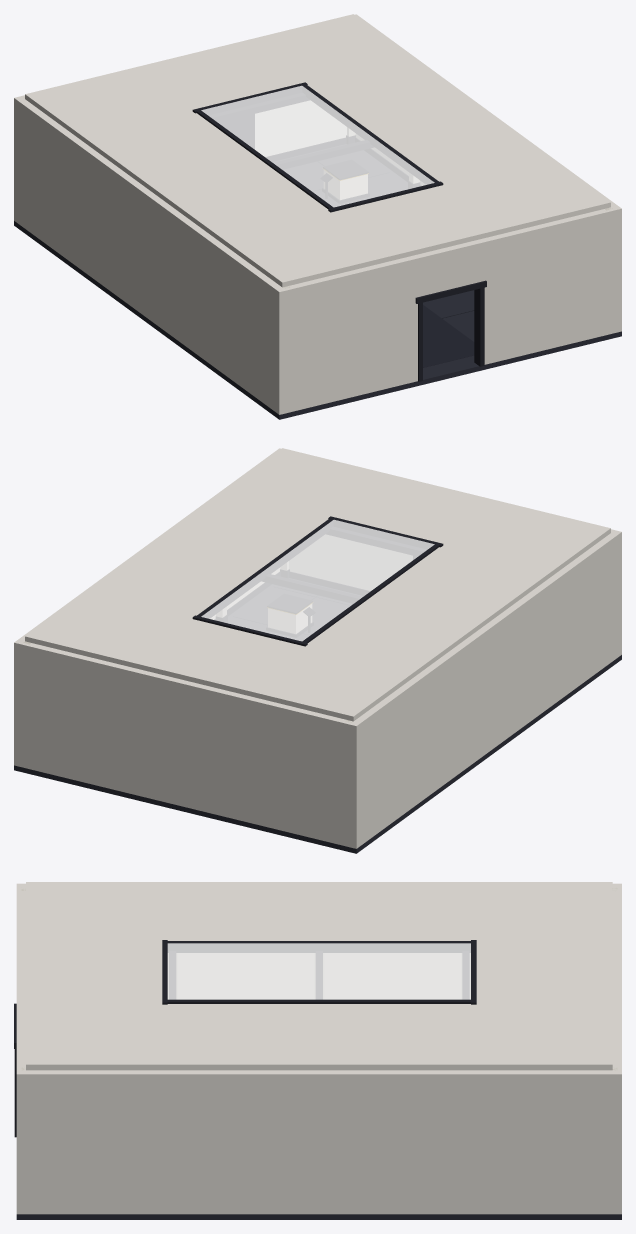
Rendered from sala_museo_.glb.
3 views of the same model, one above another, from view 1: azimuth 30°, elevation 25°; view 2: azimuth 150°, elevation 25°; view 3: azimuth 270°, elevation 25° (orthographic). The views are drawn at different scales.
Visible parts, largest first — view 1: MuroOeste, TechoLateralOeste, TechoLateralEste, MuroSurIzquierdo, MuroSurDerecho, CristalTragaluz, LosaPisoPrincipal, TechoCabeceraSur, TechoCabeceraNorte, MuroFondoNorte, DintelEntradaSur, CorredorCentral (+10 smaller); view 2: MuroFondoNorte, MuroOeste, TechoLateralOeste, TechoLateralEste, CristalTragaluz, TechoCabeceraNorte, TechoCabeceraSur, LosaPisoPrincipal, MuroSurDerecho, MarcoTragaluzEste, MarcoTragaluzSur, MarcoTragaluzOeste (+5 smaller); view 3: MuroEste, TechoLateralEste, TechoLateralOeste, CristalTragaluz, MuroOeste, TechoCabeceraNorte, TechoCabeceraSur, LosaPisoPrincipal, MarcoTragaluzOeste, MuroFondoNorte, MuroSurDerecho, MarcoTragaluzEste (+1 smaller).
Boxes of the visible parts, x1,y1,x2,y2 form: MuroOeste: (18,99,281,411); TechoLateralOeste: (25,67,393,287); TechoLateralEste: (242,14,610,234); MuroSurIzquierdo: (275,255,417,414); MuroSurDerecho: (480,205,621,364); CristalTragaluz: (201,85,434,207); LosaPisoPrincipal: (14,144,621,419); TechoCabeceraSur: (334,186,499,260); TechoCabeceraNorte: (137,41,299,109); MuroFondoNorte: (14,14,359,223); DintelEntradaSur: (414,239,483,296); CorredorCentral: (423,305,474,367); MuroFondoNorte: (14,639,360,848); MuroOeste: (354,533,617,845); TechoLateralOeste: (242,501,610,721); TechoLateralEste: (25,448,393,668); CristalTragaluz: (201,519,434,641); TechoCabeceraNorte: (136,620,301,694); TechoCabeceraSur: (336,475,498,543); LosaPisoPrincipal: (14,578,621,853); MuroSurDerecho: (276,448,412,590); MarcoTragaluzEste: (196,518,334,618); MarcoTragaluzSur: (328,516,443,549); MarcoTragaluzOeste: (302,544,439,642); MuroEste: (26,1070,612,1214); TechoLateralEste: (26,1003,612,1070); TechoLateralOeste: (26,882,612,943); CristalTragaluz: (167,943,470,999); MuroOeste: (178,953,460,999); TechoCabeceraNorte: (476,944,612,1002); TechoCabeceraSur: (26,944,162,1002); LosaPisoPrincipal: (16,1214,621,1219); MarcoTragaluzOeste: (167,941,470,952); MuroFondoNorte: (612,883,621,1214); MuroSurDerecho: (16,997,25,1214); MarcoTragaluzEste: (167,999,470,1003).
Size of the model in its own units: 14.6 by 5.47 by 19.69.
